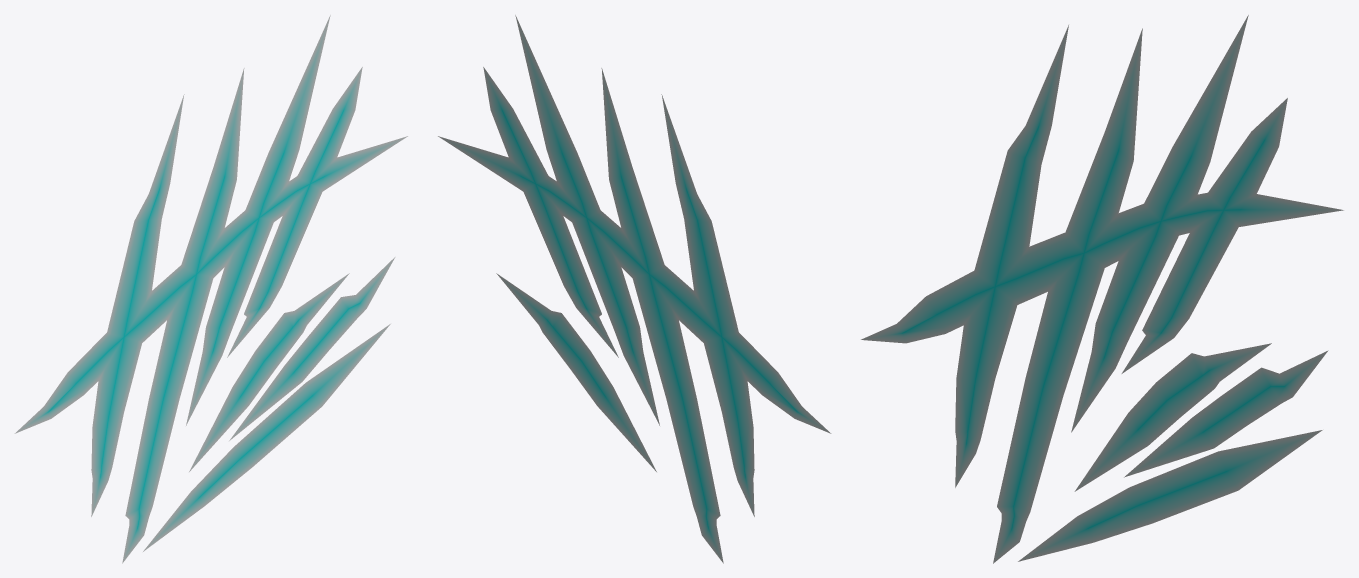
The model's file is SM_EFF_Text_Teleportation_01.glb.
3 views of the same model, side by side, from view 1: azimuth 30°, elevation 25°; view 2: azimuth 150°, elevation 25°; view 3: azimuth 330°, elevation 25° (orthographic). The views are drawn at different scales.
Parts seen in each view (by area): view 1: SM_EFF_Text_Teleportation_01; view 2: SM_EFF_Text_Teleportation_01; view 3: SM_EFF_Text_Teleportation_01.
Part boxes in pixels (box(x1,y1,x2,y2)): SM_EFF_Text_Teleportation_01: box(14, 15, 407, 563); SM_EFF_Text_Teleportation_01: box(438, 15, 831, 563); SM_EFF_Text_Teleportation_01: box(861, 15, 1343, 563).
Size of the model in its own units: 0.7898 by 0.9544 by 5.72e-08.
